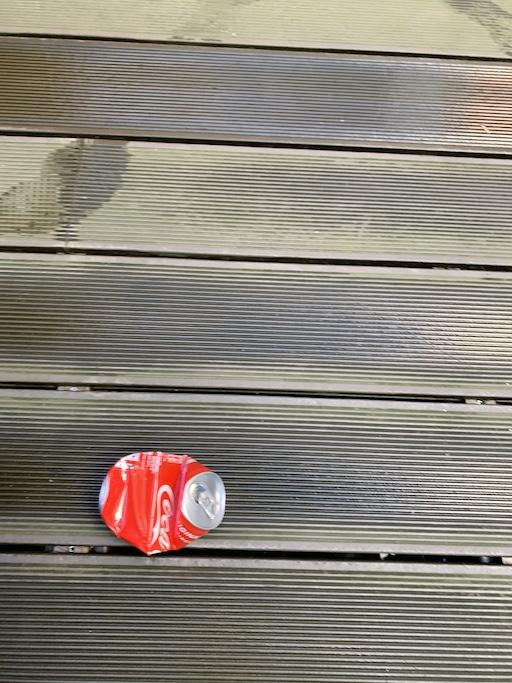Aluminum can: (96, 438, 247, 561)
